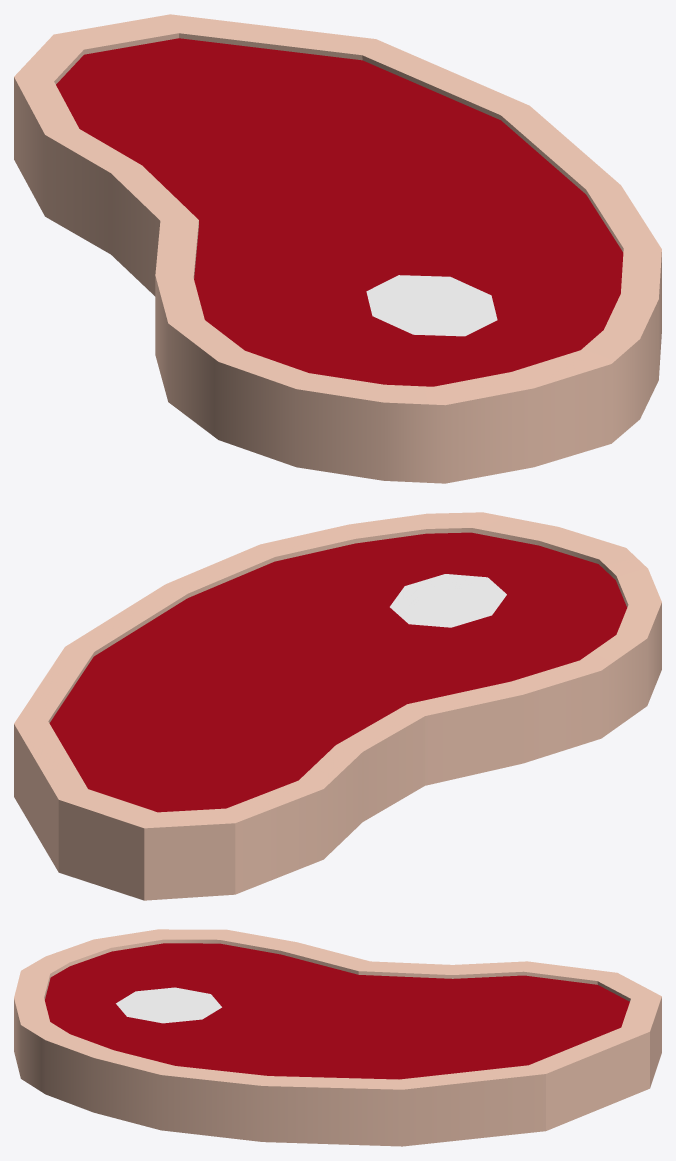
File: Steak.fbx
The picture shows the model from 3 angles, top to bottom: view 1: azimuth 30°, elevation 25°; view 2: azimuth 150°, elevation 25°; view 3: azimuth 270°, elevation 25°; orthographic projection. The views are drawn at different scales.
Visible parts, largest first — view 1: Cube; view 2: Cube; view 3: Cube.
Boxes of the visible parts, bbox=[...] form: Cube: bbox=[14, 14, 661, 483]; Cube: bbox=[14, 512, 661, 900]; Cube: bbox=[14, 929, 661, 1146].
Bounding box in the file's own units: 43.18 × 7.1 × 72.86.
